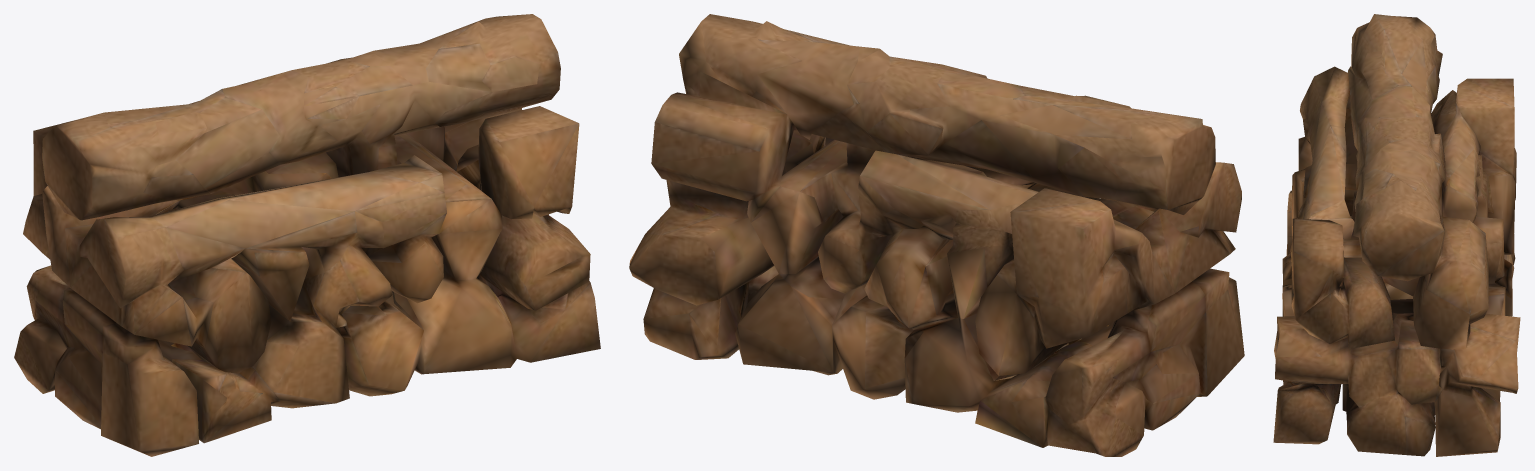
The model's file is firewood.glb.
3 views of the same model, side by side, from view 1: azimuth 30°, elevation 25°; view 2: azimuth 150°, elevation 25°; view 3: azimuth 270°, elevation 25° (orthographic). The views are drawn at different scales.
Parts seen in each view (by area): view 1: firewood; view 2: firewood; view 3: firewood.
Part boxes in pixels (box(x1,y1,x2,y2)): firewood: box(14, 14, 600, 456); firewood: box(629, 14, 1244, 456); firewood: box(1273, 14, 1520, 456).
Size of the model in its own units: 1.28 by 0.75 by 0.6546.
Materials: 1 (1 with a texture image).
